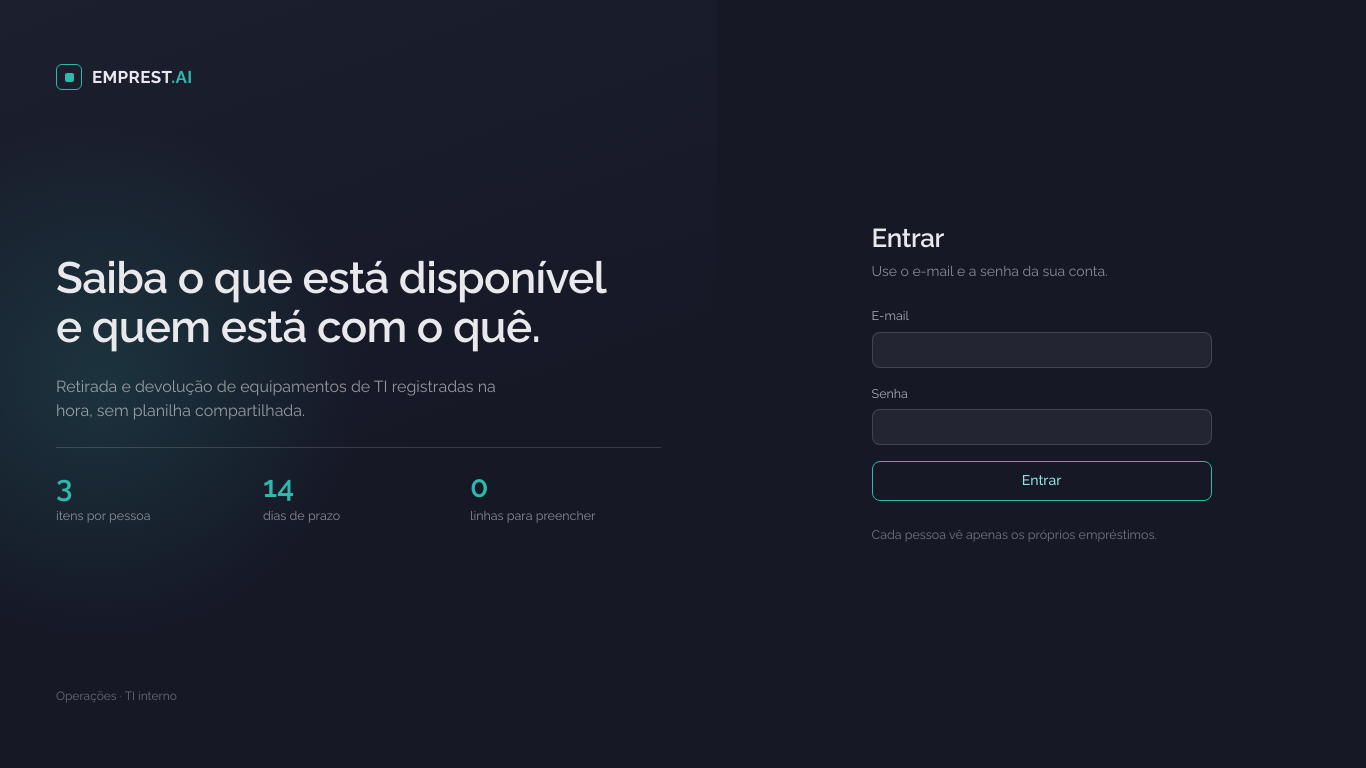
Scenario: login › CA-7: conta sem acesso (403 em /v1/me) vê a mensagem no login e a sessão é encerrada
Type "sem.vinculo@empresa.test" into the field labelled "E-mail". click: {"x": 1042, "y": 350}
box: [872,332,1212,368]
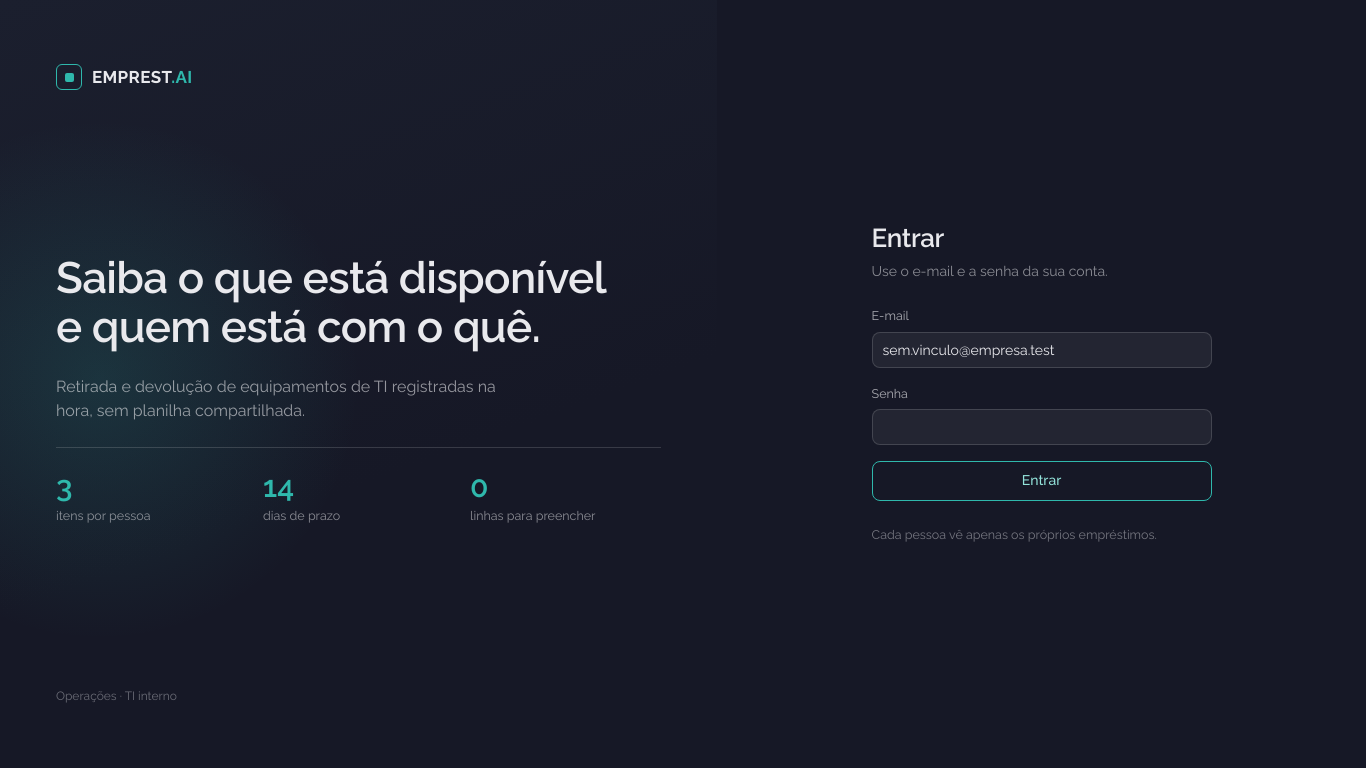
Type "senha" into the password field labelled "Senha". click: {"x": 1042, "y": 427}
box: [872,409,1212,445]
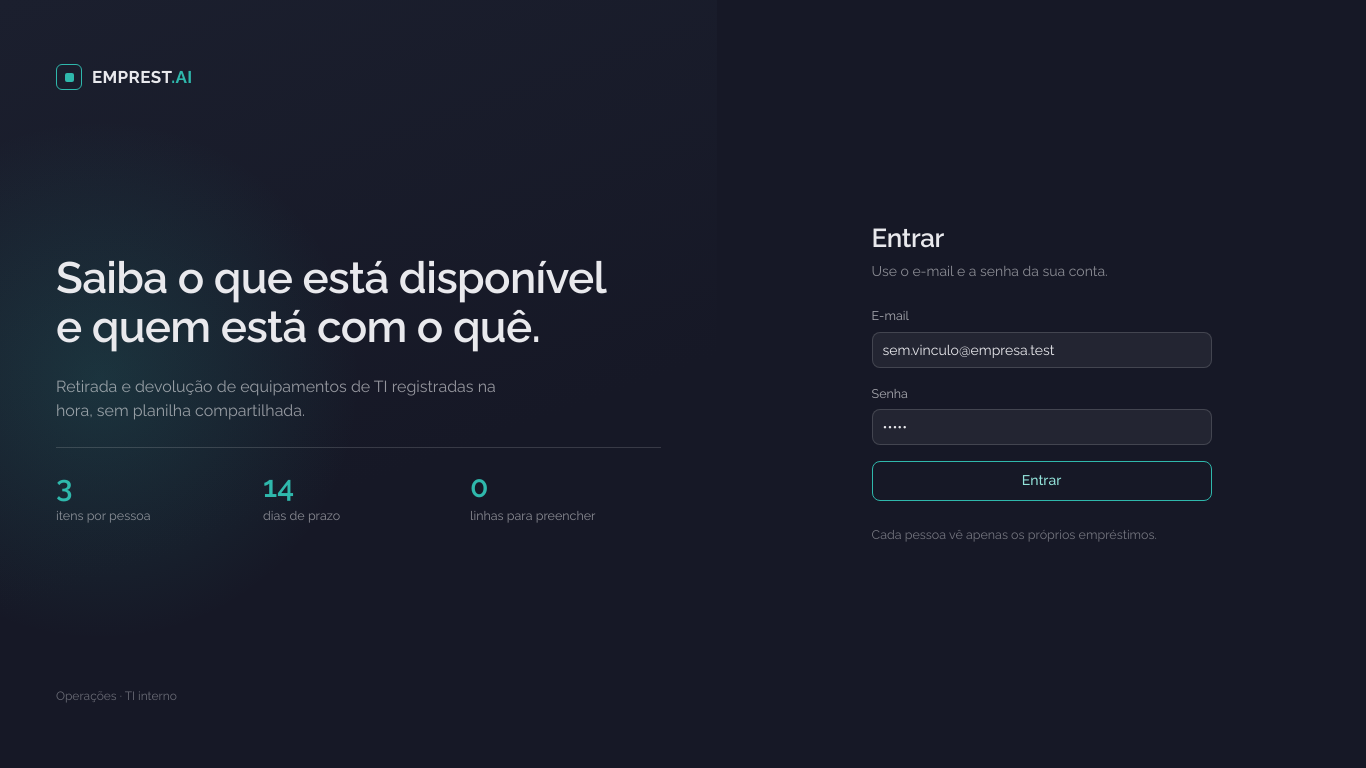
Click the button "Entrar". click: {"x": 1042, "y": 481}
box: [872,461,1212,501]
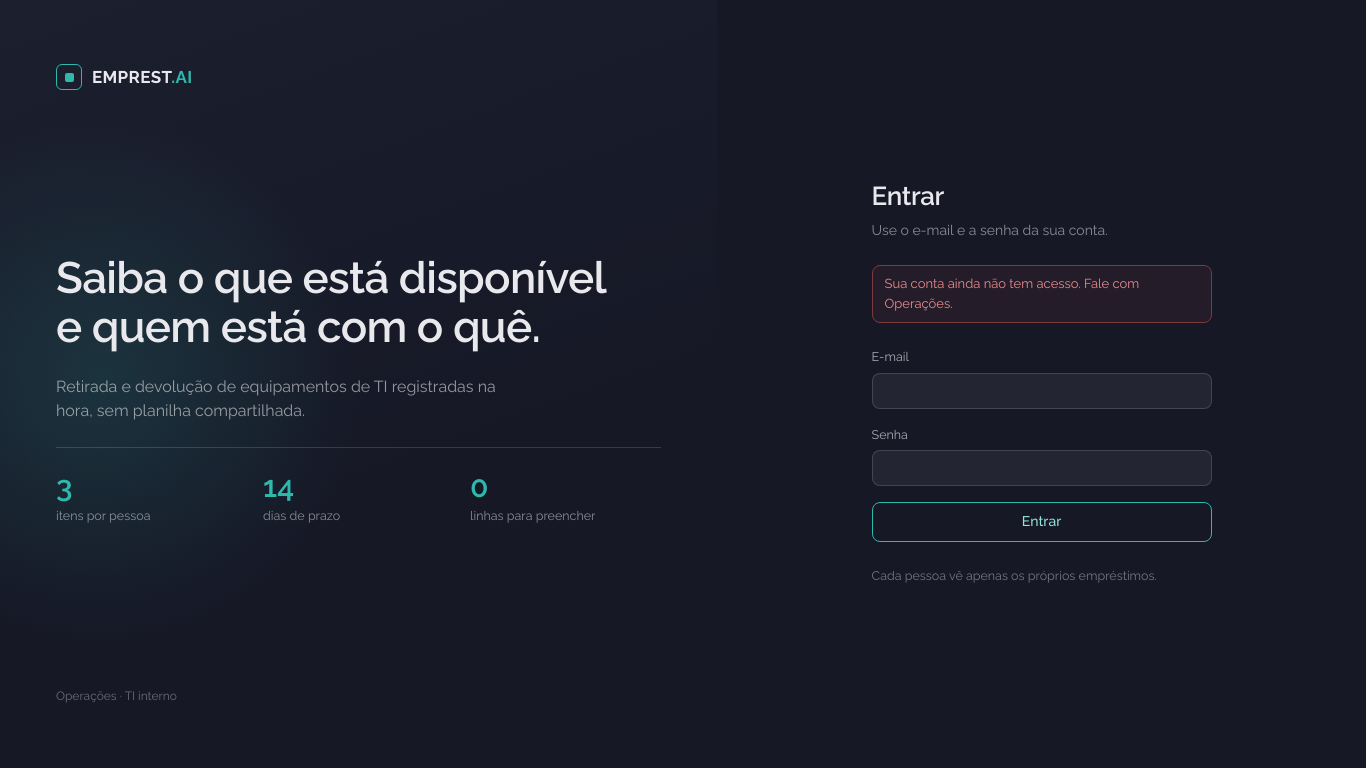
Check: the message reads "Sua conta ainda não tem acesso. Fale com Operações.", box [885,276,1139,311]
